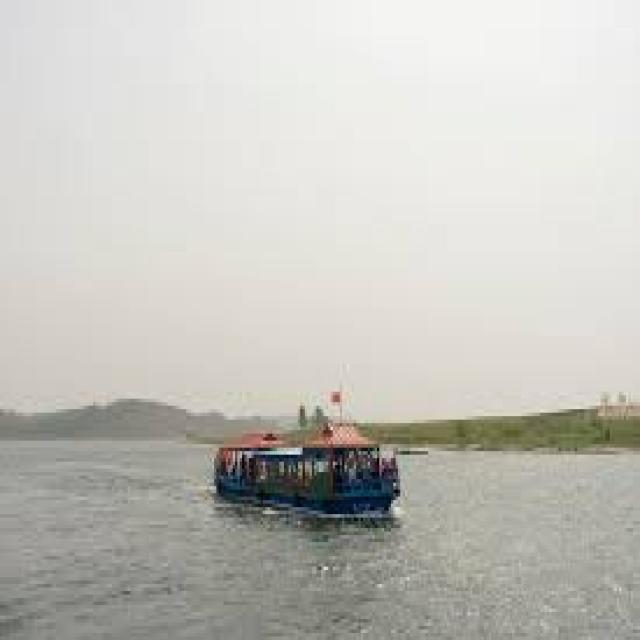fishing boat: (188, 384, 403, 518)
